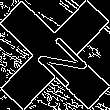N_NW: (23, 23, 87, 87)
